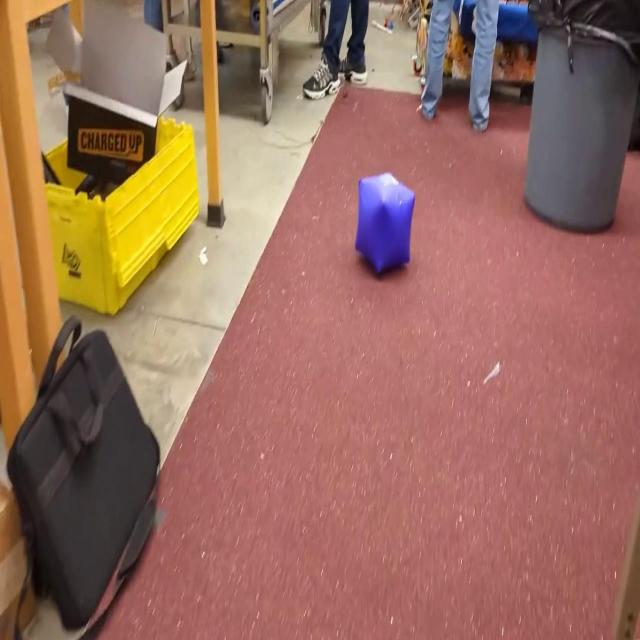frc_cube: (355, 168, 417, 279)
